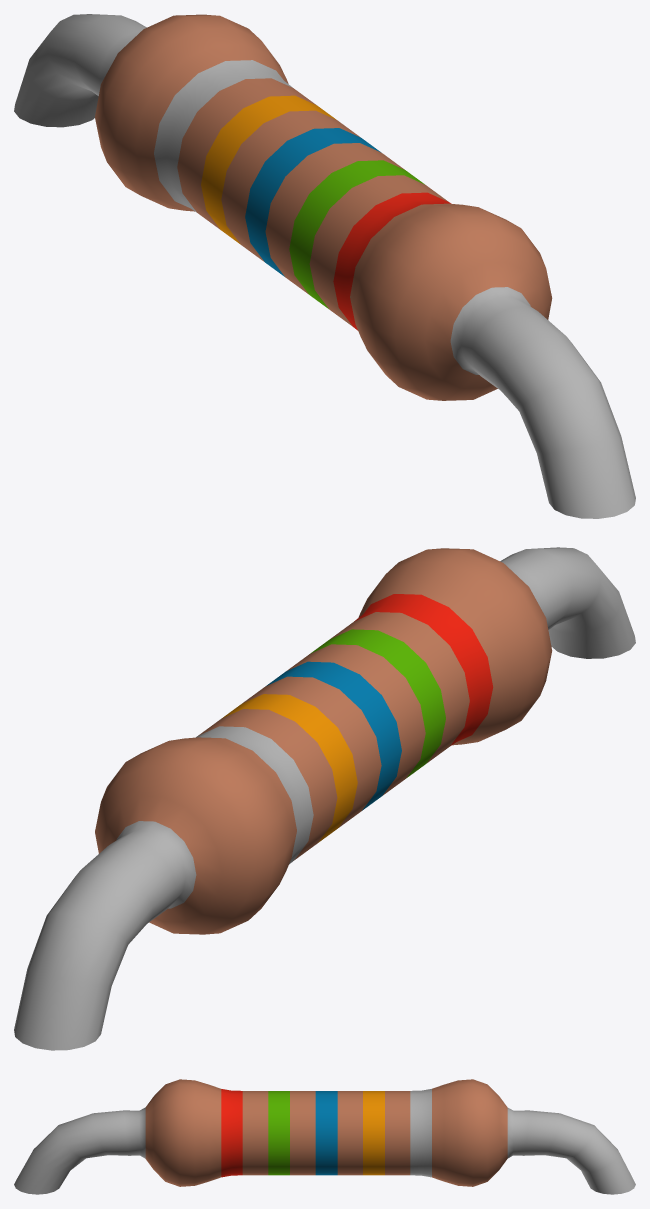
The model's file is res1.fbx.
The picture shows the model from 3 angles, top to bottom: view 1: azimuth 30°, elevation 25°; view 2: azimuth 150°, elevation 25°; view 3: azimuth 270°, elevation 25°; orthographic projection. The views are drawn at different scales.
Visible parts, largest first — view 1: Resistor1; view 2: Resistor1; view 3: Resistor1.
Part boxes in pixels (x1,y1,x2,y2): Resistor1: (14,14,635,518); Resistor1: (14,547,635,1050); Resistor1: (14,1079,635,1194).
Size of the model in its own units: 177 by 182 by 1022.
